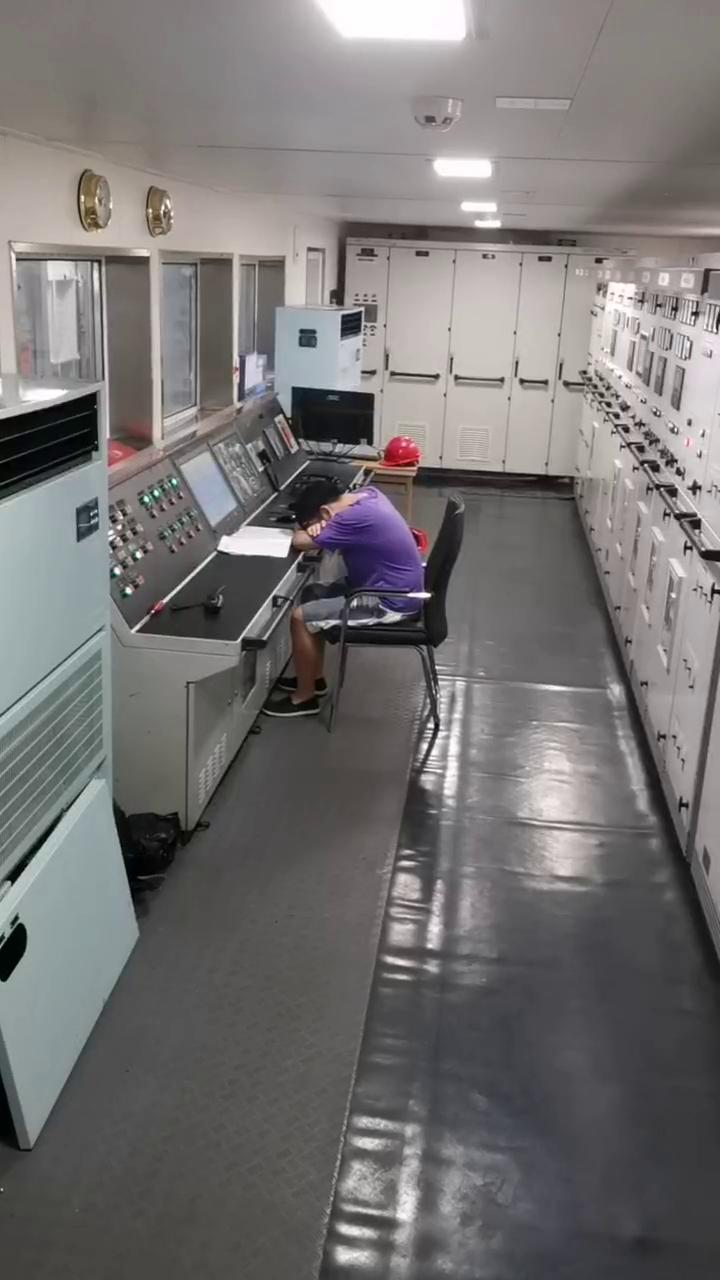sleep: (290, 482, 438, 630)
